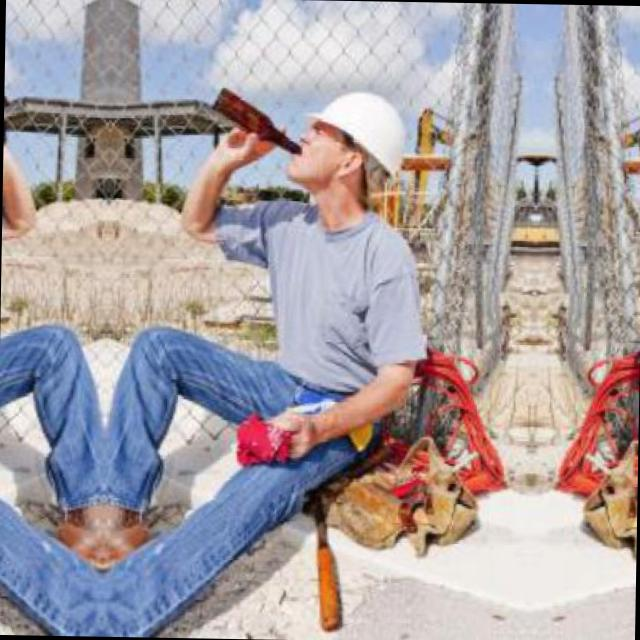helmet: (290, 76, 414, 214)
